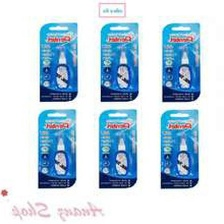book: (158, 20, 202, 103), (158, 107, 201, 191), (36, 107, 79, 190), (96, 107, 139, 190), (98, 20, 140, 104), (38, 20, 79, 103)
correction_fluid: (53, 42, 74, 92), (51, 129, 71, 178), (112, 129, 132, 178), (114, 45, 134, 90), (176, 45, 195, 91), (174, 130, 192, 177)
